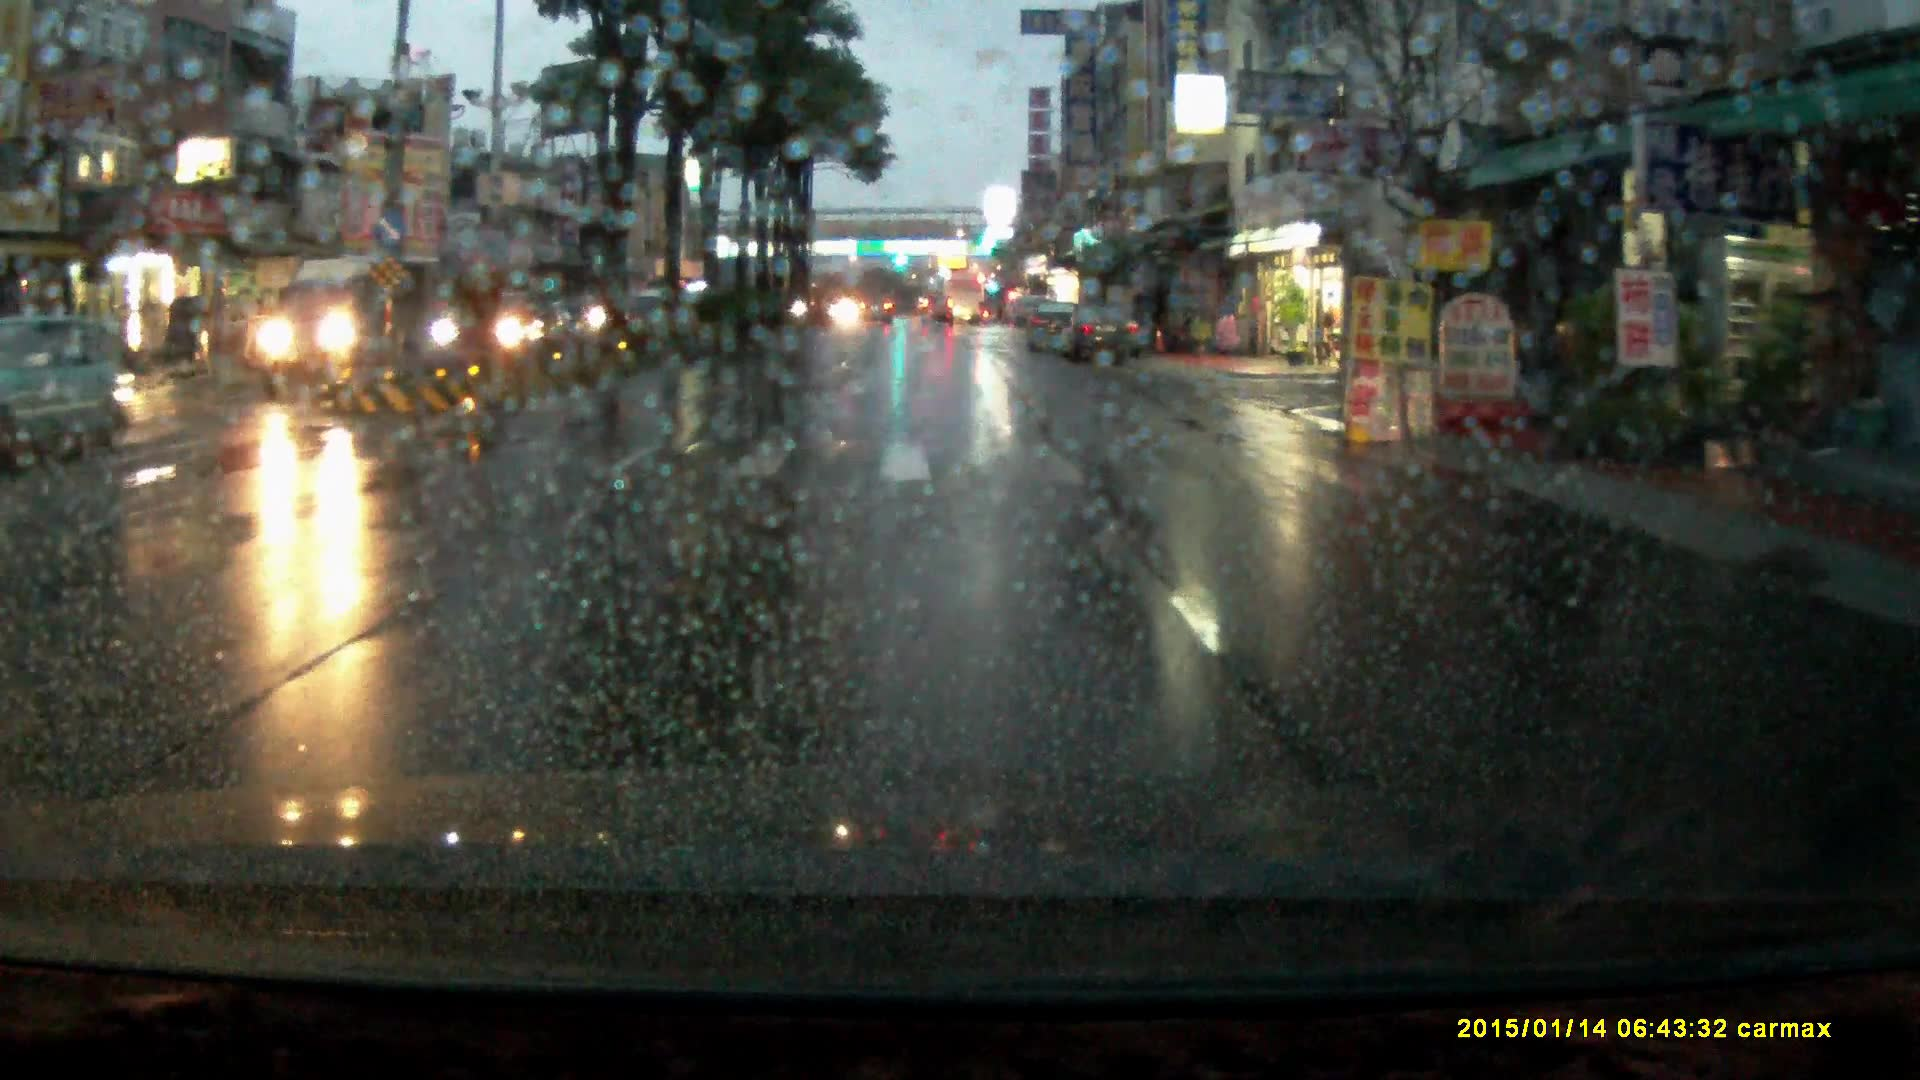vehicle: (260, 262, 443, 390), (427, 286, 555, 357), (1058, 303, 1145, 367), (1025, 301, 1081, 355), (945, 276, 986, 327), (923, 293, 957, 330), (858, 295, 895, 326)
